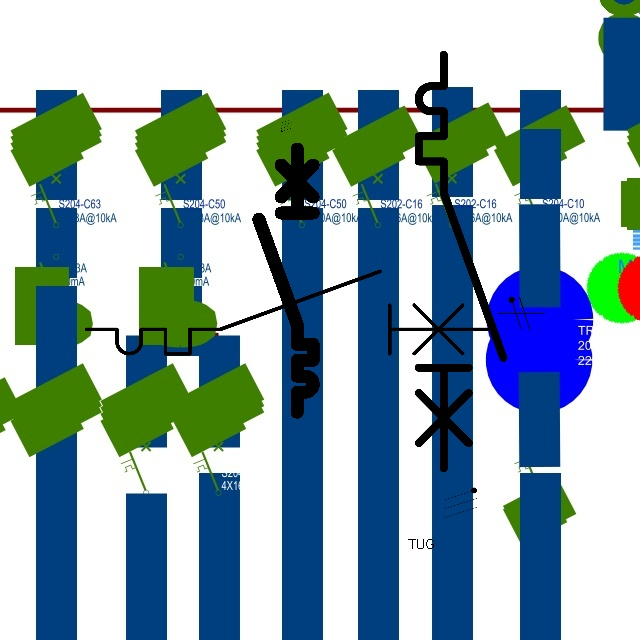interruptor_termomagnetico: (408, 44, 514, 479), (76, 261, 497, 364), (252, 142, 320, 419)
